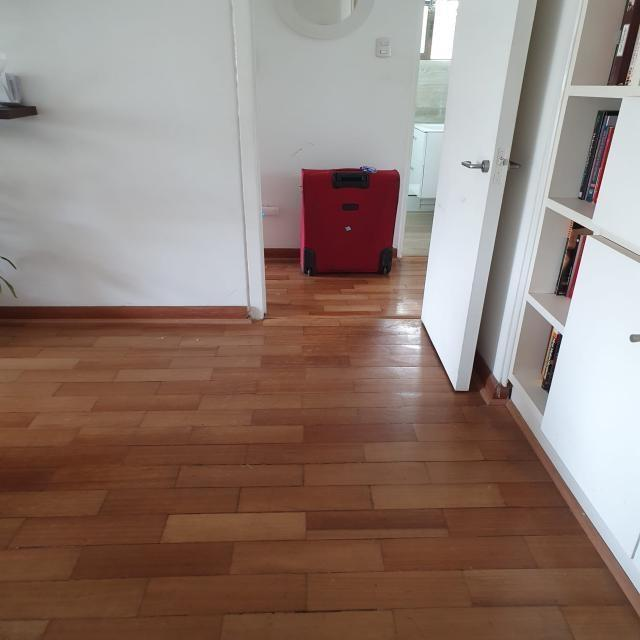Suitcase: (297, 164, 407, 282)
